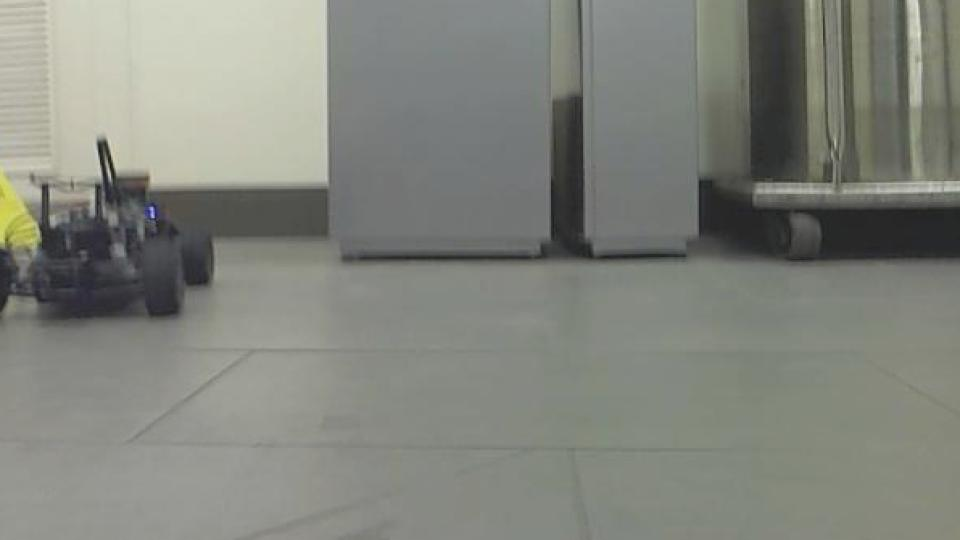car: (0, 58, 217, 323)
